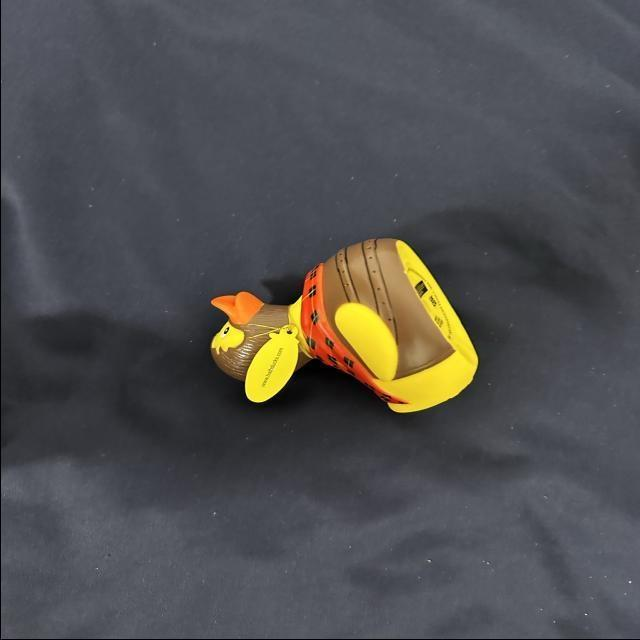rubber-duck: (210, 237, 476, 410)
